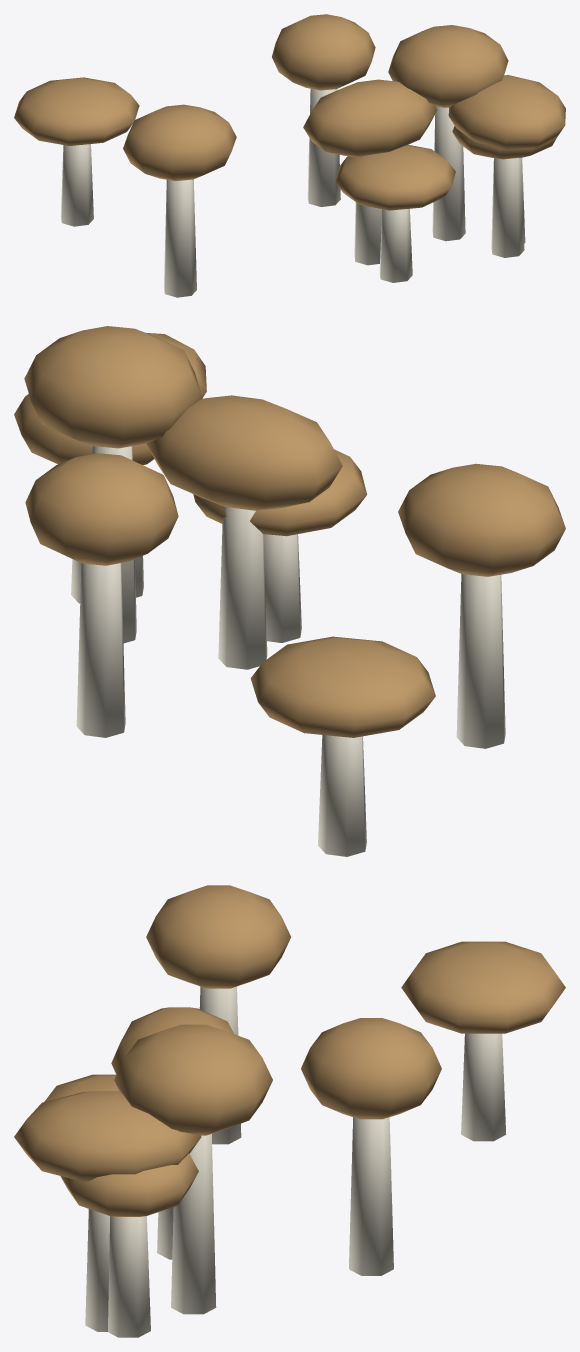
Rendered from mushroom_patch_a.glb.
3 views of the same model, one above another, from view 1: azimuth 30°, elevation 25°; view 2: azimuth 150°, elevation 25°; view 3: azimuth 270°, elevation 25° (orthographic). The views are drawn at different scales.
Visible parts, largest first — view 1: mushroom_cap_1, mushroom_cap_6, mushroom_cap_2, mushroom_cap_3, mushroom_cap_7, mushroom_cap_4, mushroom_cap_0, mushroom_stem_3, mushroom_stem_7, mushroom_stem_6, mushroom_stem_2, mushroom_stem_0 (+3 smaller); view 2: mushroom_cap_6, mushroom_cap_1, mushroom_cap_2, mushroom_cap_3, mushroom_cap_4, mushroom_stem_4, mushroom_stem_3, mushroom_stem_1, mushroom_stem_2, mushroom_cap_0, mushroom_stem_0, mushroom_cap_5 (+2 smaller); view 3: mushroom_cap_6, mushroom_cap_2, mushroom_cap_3, mushroom_cap_7, mushroom_cap_4, mushroom_stem_4, mushroom_stem_6, mushroom_cap_5, mushroom_stem_5, mushroom_stem_2, mushroom_stem_7, mushroom_cap_1 (+3 smaller).
Part boxes in pixels (x1=…): mushroom_cap_1: x1=303, y1=79, x2=437, y2=156; mushroom_cap_6: x1=388, y1=25, x2=508, y2=107; mushroom_cap_2: x1=14, y1=77, x2=139, y2=145; mushroom_cap_3: x1=123, y1=104, x2=236, y2=181; mushroom_cap_7: x1=448, y1=75, x2=565, y2=149; mushroom_cap_4: x1=272, y1=14, x2=375, y2=90; mushroom_cap_0: x1=335, y1=144, x2=455, y2=210; mushroom_stem_3: x1=164, y1=179, x2=196, y2=297; mushroom_stem_7: x1=491, y1=158, x2=524, y2=257; mushroom_stem_6: x1=432, y1=106, x2=465, y2=241; mushroom_stem_2: x1=60, y1=144, x2=93, y2=226; mushroom_stem_0: x1=379, y1=208, x2=412, y2=282; mushroom_cap_6: x1=24, y1=326, x2=201, y2=448; mushroom_cap_1: x1=146, y1=395, x2=342, y2=510; mushroom_cap_2: x1=250, y1=636, x2=435, y2=737; mushroom_cap_3: x1=398, y1=463, x2=565, y2=576; mushroom_cap_4: x1=25, y1=453, x2=178, y2=565; mushroom_stem_4: x1=76, y1=563, x2=125, y2=737; mushroom_stem_3: x1=456, y1=574, x2=505, y2=748; mushroom_stem_1: x1=218, y1=506, x2=267, y2=669; mushroom_stem_2: x1=318, y1=735, x2=366, y2=856; mushroom_cap_0: x1=193, y1=449, x2=367, y2=536; mushroom_stem_0: x1=264, y1=534, x2=301, y2=642; mushroom_cap_5: x1=14, y1=394, x2=154, y2=464; mushroom_cap_6: x1=114, y1=1024, x2=272, y2=1135; mushroom_cap_2: x1=401, y1=941, x2=565, y2=1033; mushroom_cap_3: x1=146, y1=885, x2=290, y2=988; mushroom_cap_7: x1=14, y1=1091, x2=201, y2=1181; mushroom_cap_4: x1=301, y1=1018, x2=441, y2=1119; mushroom_stem_4: x1=349, y1=1117, x2=393, y2=1275; mushroom_stem_6: x1=171, y1=1134, x2=216, y2=1314; mushroom_cap_5: x1=60, y1=1153, x2=198, y2=1216; mushroom_stem_5: x1=108, y1=1216, x2=150, y2=1337; mushroom_stem_2: x1=461, y1=1033, x2=506, y2=1141; mushroom_stem_7: x1=85, y1=1209, x2=109, y2=1331; mushroom_cap_1: x1=111, y1=1007, x2=233, y2=1074.
Bounding box in the file's own units: 0.4539 × 0.2178 × 0.4032.
